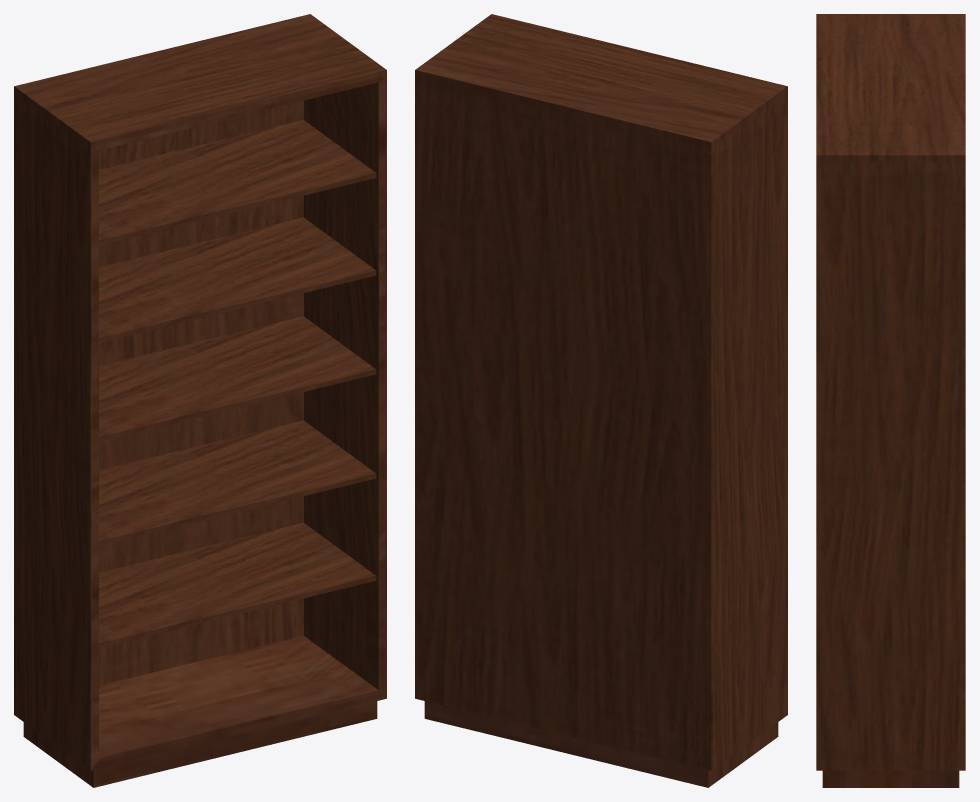
File: BookcaseM_vi.fbx
The picture shows the model from 3 angles, left to right: view 1: azimuth 30°, elevation 25°; view 2: azimuth 150°, elevation 25°; view 3: azimuth 270°, elevation 25°; orthographic projection. The views are drawn at different scales.
Parts seen in each view (by area): view 1: BookcaseM; view 2: BookcaseM; view 3: BookcaseM.
Boxes of the visible parts, left/top/right/bottom form: BookcaseM: left=14, top=14, right=386, bottom=787; BookcaseM: left=415, top=14, right=787, bottom=787; BookcaseM: left=816, top=14, right=965, bottom=787.
Size of the model in its own units: 0.0179 by 0.0374 by 0.00799.
Materials: 1 (1 with a texture image).
